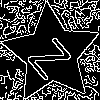Z: (26, 29, 80, 82)
